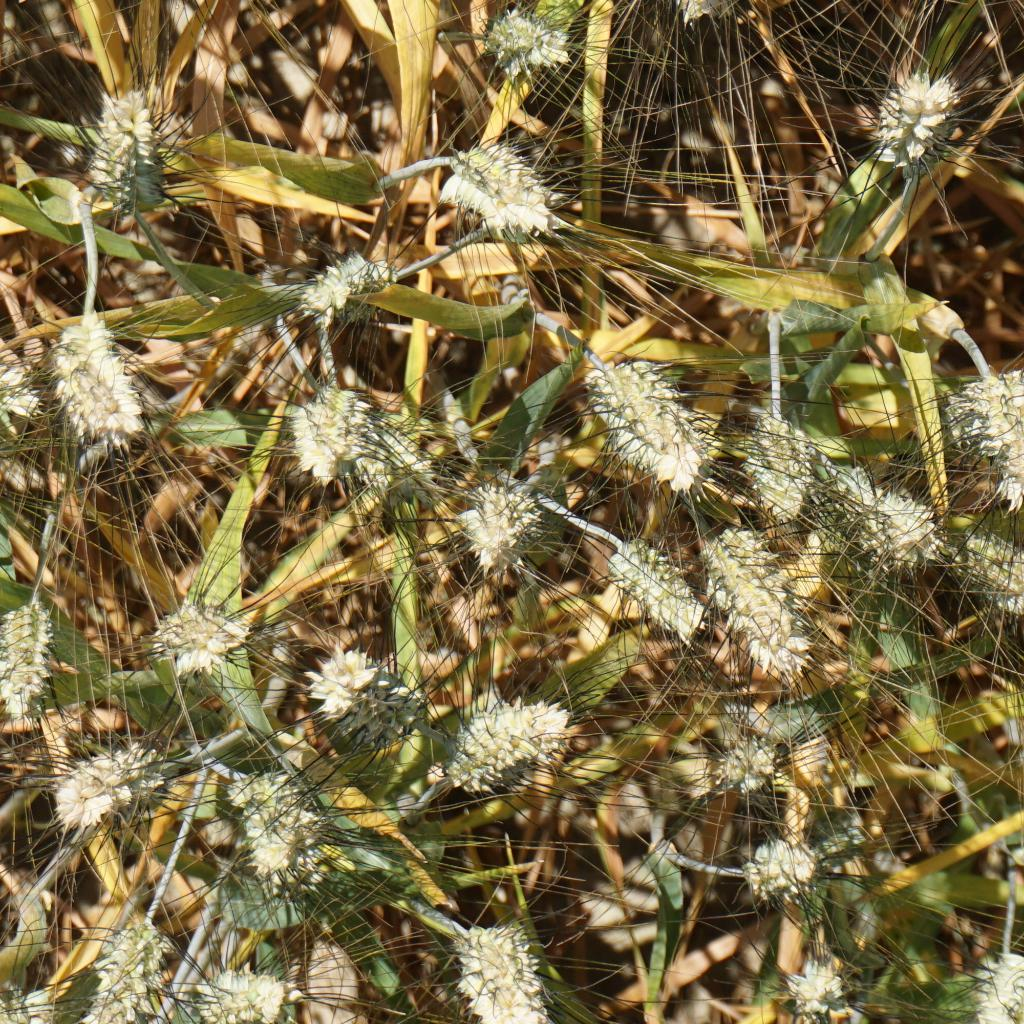0-0: (574, 356, 707, 488), (698, 518, 813, 669), (45, 303, 153, 449), (809, 454, 937, 574), (441, 132, 559, 238), (870, 65, 977, 177), (88, 96, 177, 220), (685, 693, 791, 795), (456, 689, 561, 791), (726, 384, 811, 509), (592, 535, 700, 630), (460, 913, 557, 1017), (316, 637, 411, 742), (134, 582, 244, 669), (958, 366, 1024, 502), (299, 236, 386, 323), (186, 954, 294, 1024), (728, 826, 819, 909), (45, 728, 135, 811), (0, 602, 58, 728), (453, 474, 537, 561), (104, 907, 165, 1024), (279, 384, 356, 472), (342, 397, 419, 482), (793, 941, 868, 1024), (238, 768, 307, 858), (956, 525, 1024, 608), (965, 937, 1024, 1014), (492, 7, 551, 76), (0, 342, 39, 421), (1004, 935, 1024, 1024)
